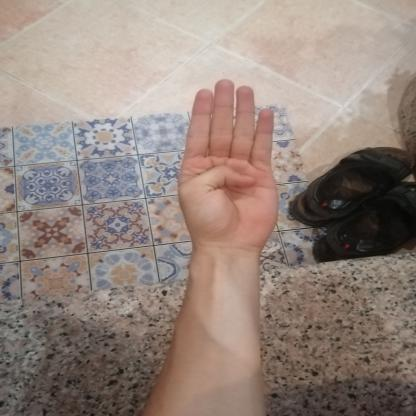KAAF: (153, 70, 302, 262)
